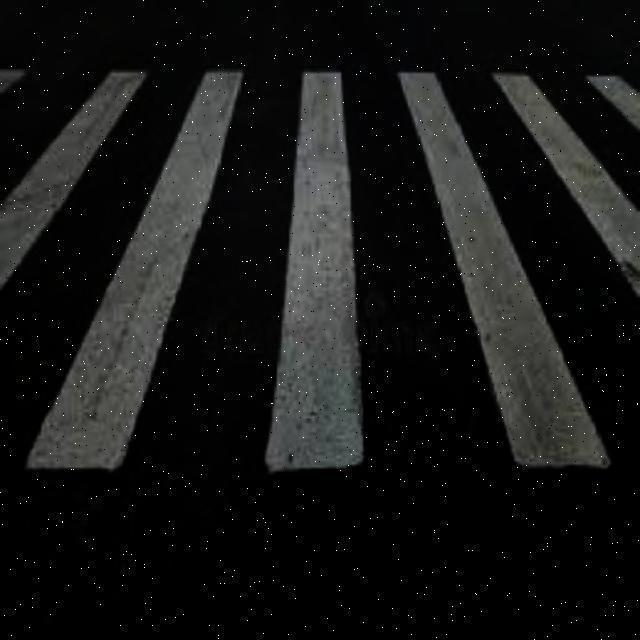crosswalk: (4, 72, 640, 466)
